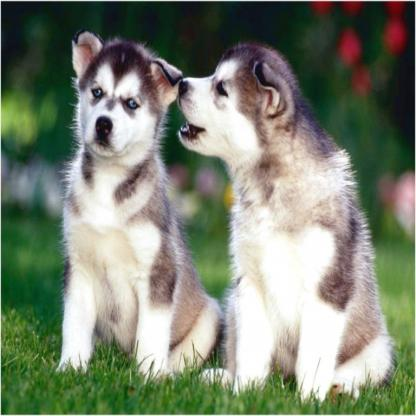husky: (175, 42, 392, 402), (57, 25, 220, 377)
